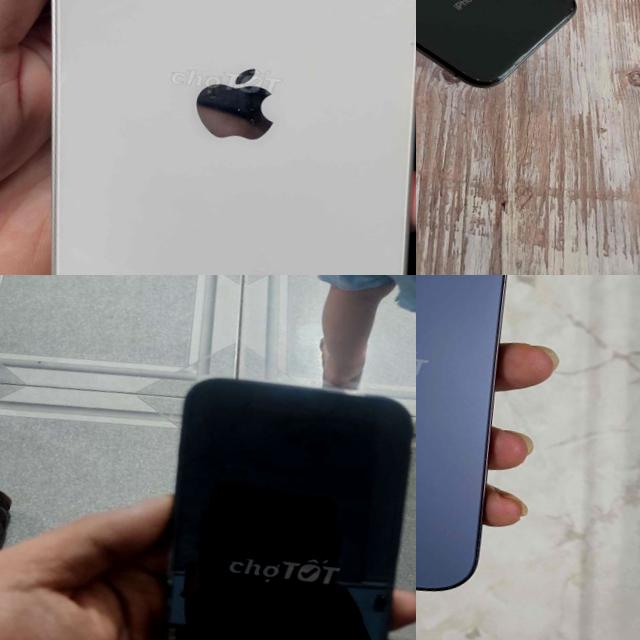gen_12_13: (51, 0, 416, 275), (416, 275, 530, 611)
gen_14: (128, 363, 416, 640)
gen_x_xs: (416, 0, 575, 85)
